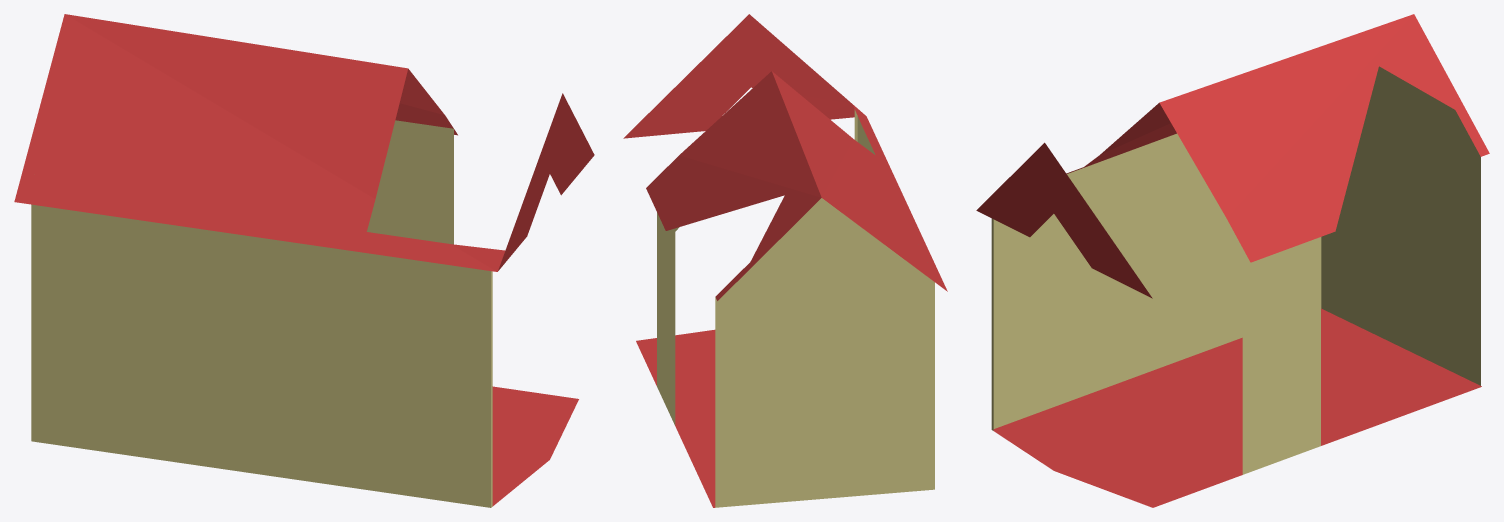
3 views of the same model, side by side, from view 1: azimuth 30°, elevation 25°; view 2: azimuth 150°, elevation 25°; view 3: azimuth 270°, elevation 25° (orthographic). The views are drawn at different scales.
Bounding box in the file's own units: 20.98 × 21.35 × 15.21.
